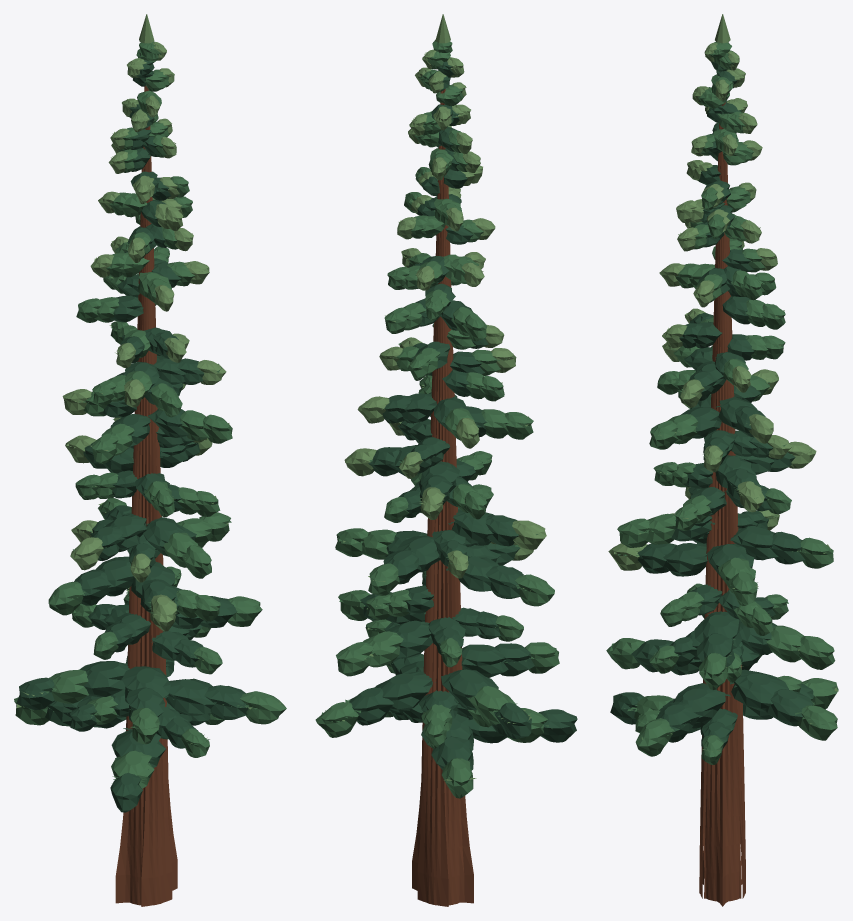
The model's file is silver_fir.meshopt.glb.
The picture shows the model from 3 angles, left to right: view 1: azimuth 30°, elevation 25°; view 2: azimuth 150°, elevation 25°; view 3: azimuth 270°, elevation 25°; orthographic projection.
Visible parts, largest first — view 1: silver_fir; view 2: silver_fir; view 3: silver_fir.
Part boxes in pixels (x1,y1,x2,y2): silver_fir: (14, 14, 286, 906); silver_fir: (315, 14, 577, 906); silver_fir: (606, 14, 838, 906).
Size of the model in its own units: 13.92 by 54.2 by 13.02.
